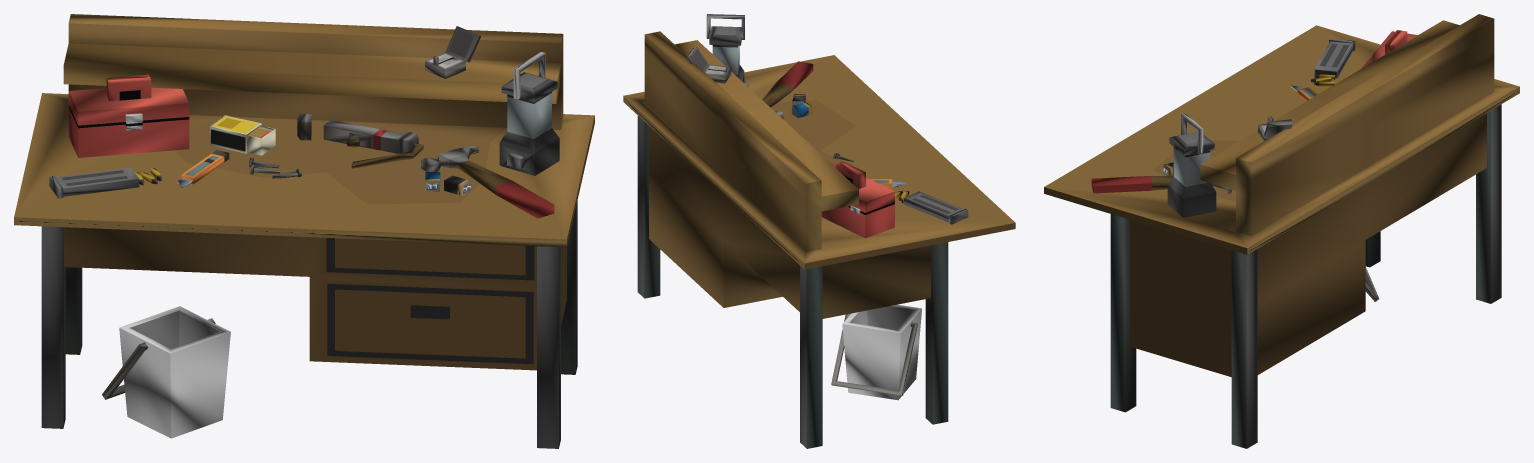
File: apoc_prop_81.glb
The picture shows the model from 3 angles, left to right: view 1: azimuth 30°, elevation 25°; view 2: azimuth 150°, elevation 25°; view 3: azimuth 270°, elevation 25°; orthographic projection. The views are drawn at different scales.
Parts seen in each view (by area): view 1: prop_083; view 2: prop_083; view 3: prop_083.
Part boxes in pixels (x1,y1,x2,y2): prop_083: [14, 14, 594, 448]; prop_083: [623, 14, 1015, 448]; prop_083: [1044, 14, 1519, 448].
Bounding box in the file's own units: 0.581 × 0.3577 × 0.5242.
1 material, 1 textured.
